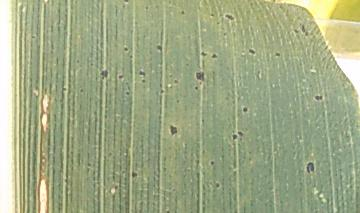tarspot: (303, 158, 318, 176), (168, 122, 180, 140), (194, 69, 207, 84), (312, 92, 326, 104), (223, 11, 237, 23), (112, 72, 129, 81), (98, 68, 109, 81), (154, 41, 165, 54), (247, 45, 258, 58), (230, 130, 240, 144), (129, 168, 140, 180), (199, 48, 209, 59), (137, 67, 147, 78), (240, 105, 250, 115), (207, 158, 217, 168), (272, 50, 283, 59), (211, 51, 219, 62), (122, 45, 129, 54)
